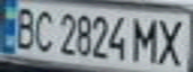2: (54, 8, 78, 56), (90, 11, 112, 61)
4: (109, 12, 133, 62)
8: (72, 10, 93, 58)
B: (9, 3, 39, 52)
C: (30, 7, 57, 54)
M: (127, 13, 163, 64)
X: (154, 15, 190, 67)
